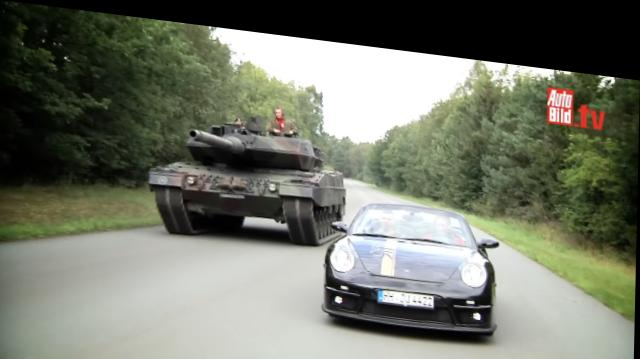other: (270, 96, 291, 127)
tank: (163, 119, 338, 234)
